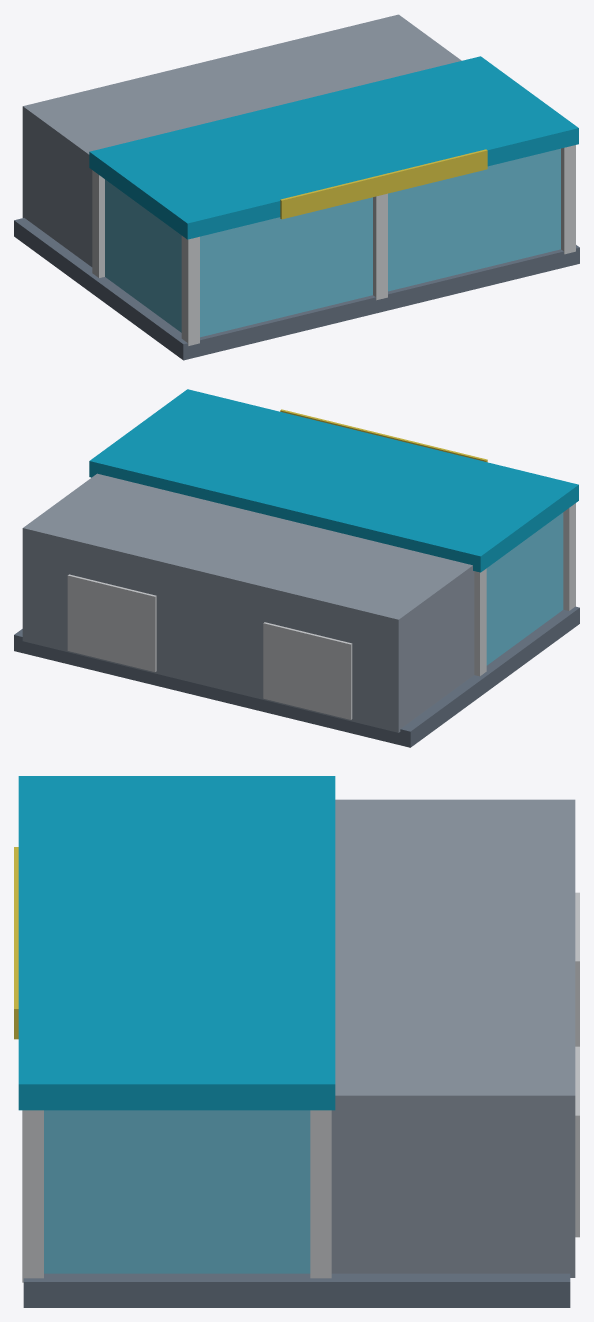
Rendered from car-dealership.glb.
3 renders of one model, top to bottom at view 1: azimuth 30°, elevation 25°; view 2: azimuth 150°, elevation 25°; view 3: azimuth 270°, elevation 25°, orthographic. The views are drawn at different scales.
Parts seen in each view (by area): view 1: Root; view 2: Root; view 3: Root.
Part boxes in pixels (x1,y1,x2,y2): Root: [14, 14, 579, 360]; Root: [14, 389, 579, 747]; Root: [14, 776, 579, 1307].
Size of the model in its own units: 15.4 by 5.15 by 11.8.
